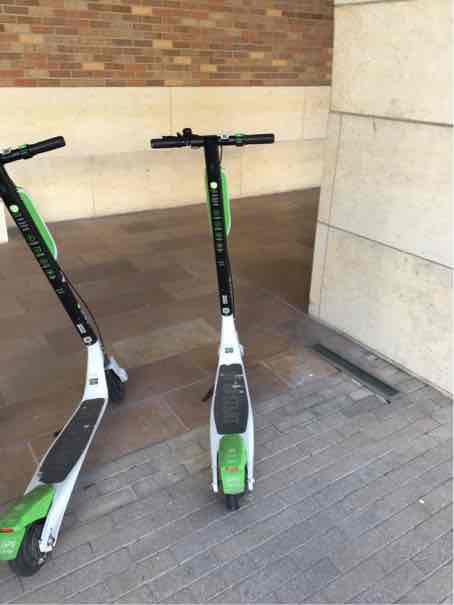scooter: (134, 119, 291, 505)
